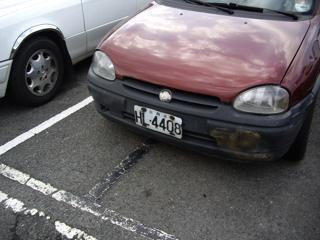plate: (132, 103, 184, 141)
